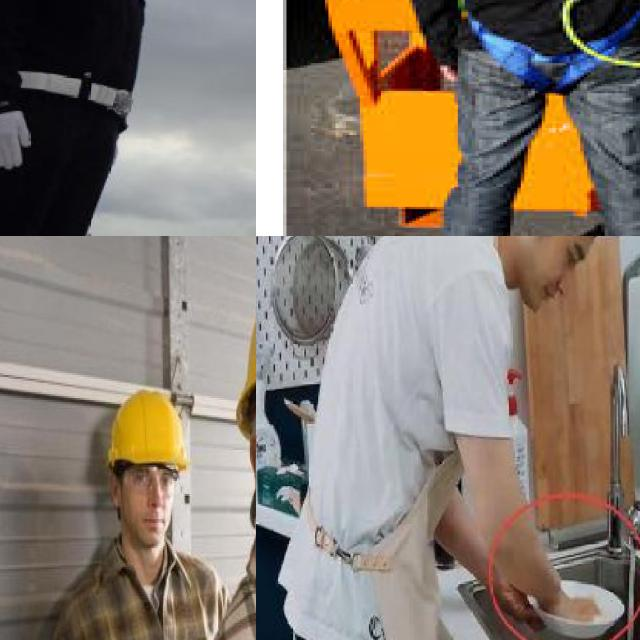Harness: (448, 0, 640, 93)
No_Ear-Protection: (245, 437, 256, 505)
No_Glasses: (552, 236, 589, 276)
face_nomask: (507, 236, 588, 313), (125, 467, 176, 540)
glasses: (121, 465, 184, 501)
hand_glove: (0, 109, 31, 170)
hand_noglove: (501, 574, 546, 634), (563, 586, 601, 631)
head_helmet: (102, 389, 189, 473)
person: (284, 236, 635, 640), (39, 383, 250, 640), (0, 0, 144, 236), (184, 246, 256, 640)
